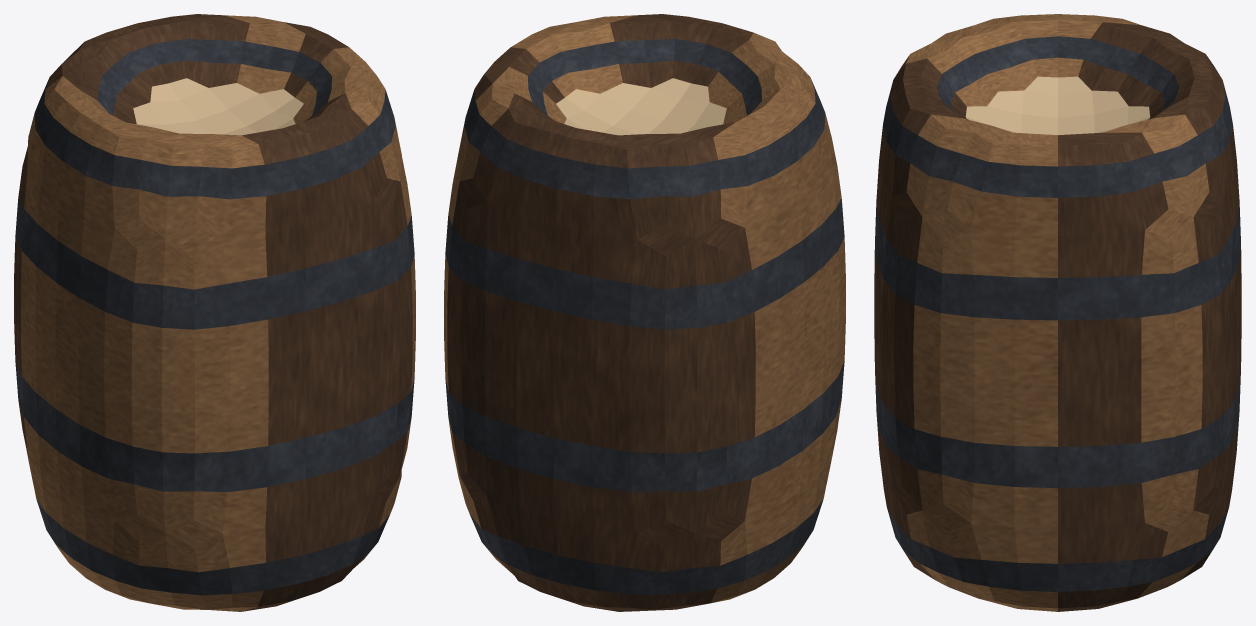
File: prop_barrel.glb
3 views of the same model, side by side, from view 1: azimuth 30°, elevation 25°; view 2: azimuth 150°, elevation 25°; view 3: azimuth 270°, elevation 25° (orthographic).
Visible parts, largest first — view 1: wilds_prop_barrel; view 2: wilds_prop_barrel; view 3: wilds_prop_barrel.
Boxes of the visible parts, box(x1,y1,x2,y2) form: wilds_prop_barrel: box(14, 14, 415, 611); wilds_prop_barrel: box(444, 14, 845, 611); wilds_prop_barrel: box(874, 14, 1241, 611).
Size of the model in its own units: 0.4922 by 0.738 by 0.4922.
Materials: 2 (1 with a texture image).
